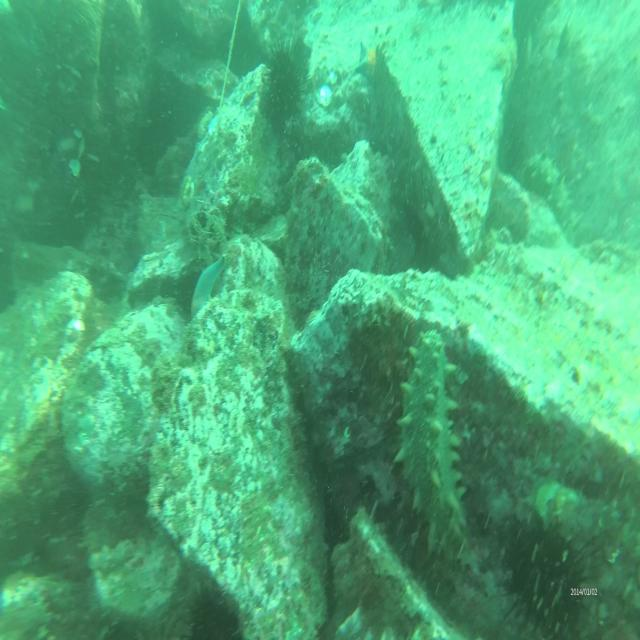echinus: (506, 513, 590, 640), (263, 39, 307, 128), (186, 581, 244, 640)
holothurian: (402, 322, 466, 536), (523, 146, 573, 222)
starfish: (185, 250, 227, 318), (351, 39, 378, 79)
